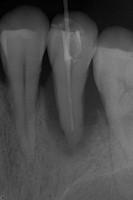Dental Caries: (44, 86, 109, 159)
